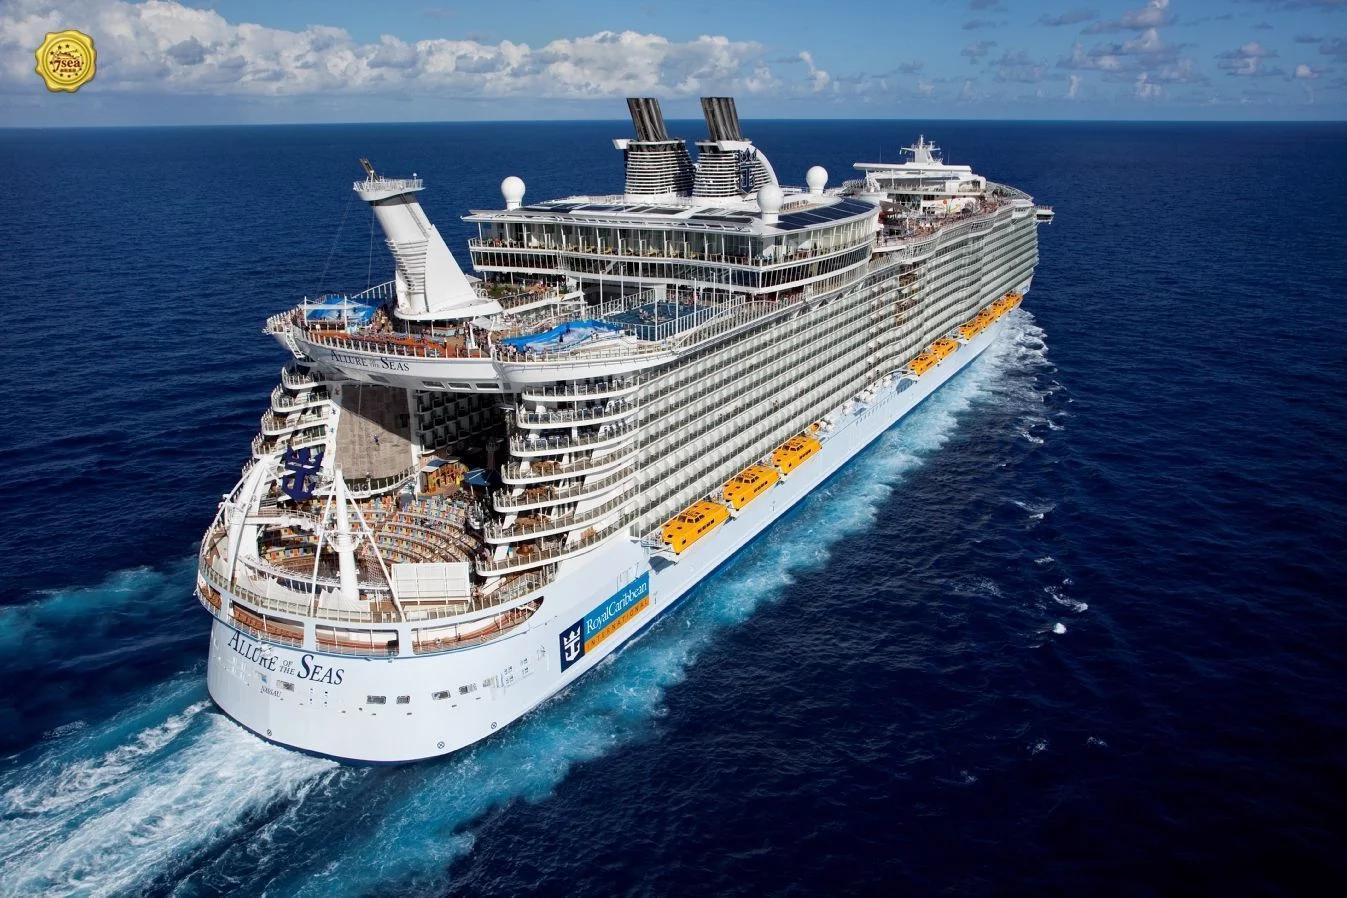youlun: (189, 88, 1064, 764)
